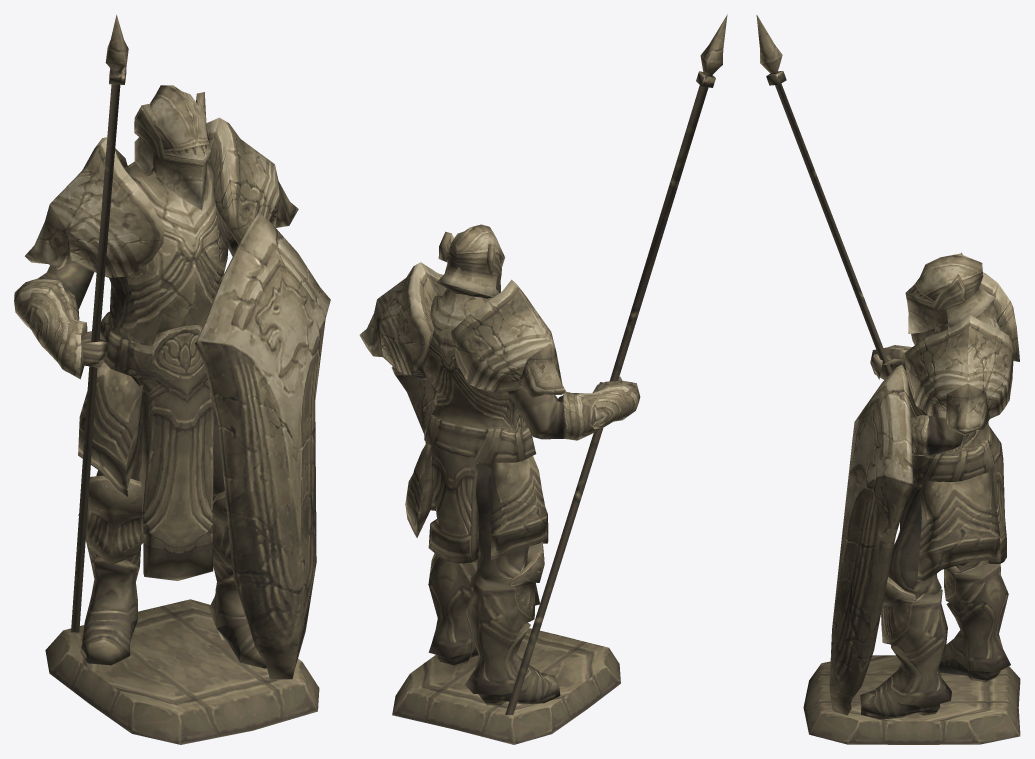
Rendered from bfcs_diaoxiang_02-a.FBX.
The picture shows the model from 3 angles, left to right: view 1: azimuth 30°, elevation 25°; view 2: azimuth 150°, elevation 25°; view 3: azimuth 270°, elevation 25°; orthographic projection. The views are drawn at different scales.
Parts seen in each view (by area): view 1: bfcs_diaoxiang_02-a; view 2: bfcs_diaoxiang_02-a; view 3: bfcs_diaoxiang_02-a.
Part boxes in pixels (x1=…): bfcs_diaoxiang_02-a: x1=14, y1=14, x2=330, y2=744; bfcs_diaoxiang_02-a: x1=359, y1=14, x2=727, y2=744; bfcs_diaoxiang_02-a: x1=756, y1=15, x2=1020, y2=744.
Size of the model in its own units: 72.85 by 172 by 65.65.
